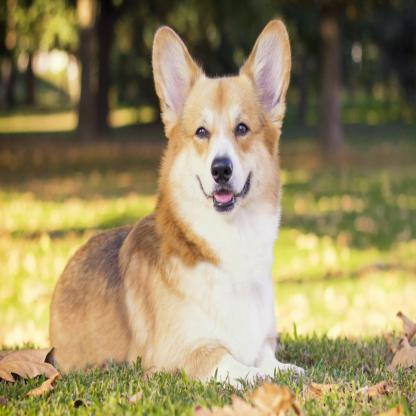Korgi: (48, 18, 314, 376)
